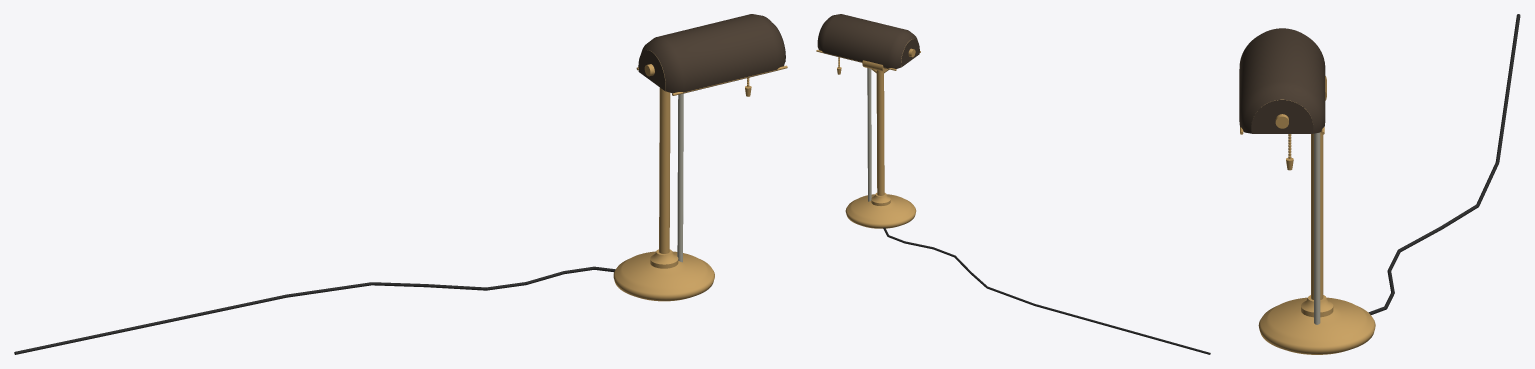
The model's file is Foundry.glb.
3 views of the same model, side by side, from view 1: azimuth 30°, elevation 25°; view 2: azimuth 150°, elevation 25°; view 3: azimuth 270°, elevation 25° (orthographic). The views are drawn at different scales.
Parts seen in each view (by area): view 1: Enamel gallery, Weighted base, Post, Power lead, Anglepoise link, Shade end; view 2: Enamel gallery, Weighted base, Post, Anglepoise link, Power lead; view 3: Enamel gallery, Weighted base, Shade end, Anglepoise link, Post, Power lead, Turned stem collar.
Part boxes in pixels (x1,y1,x2,y2): Enamel gallery: [641, 14, 785, 93]; Weighted base: [613, 251, 714, 301]; Post: [659, 87, 670, 253]; Power lead: [14, 294, 286, 354]; Anglepoise link: [677, 93, 683, 262]; Shade end: [638, 50, 665, 90]; Enamel gallery: [817, 14, 917, 69]; Weighted base: [845, 194, 916, 228]; Post: [876, 70, 884, 195]; Anglepoise link: [867, 68, 871, 201]; Power lead: [1034, 304, 1210, 354]; Enamel gallery: [1239, 28, 1325, 133]; Weighted base: [1258, 297, 1375, 354]; Shade end: [1251, 100, 1313, 133]; Anglepoise link: [1314, 132, 1320, 324]; Post: [1311, 132, 1323, 299]; Power lead: [1495, 14, 1520, 161]; Turned stem collar: [1301, 295, 1333, 317].
Size of the model in its own units: 7.04 by 2.63 by 2.26.
